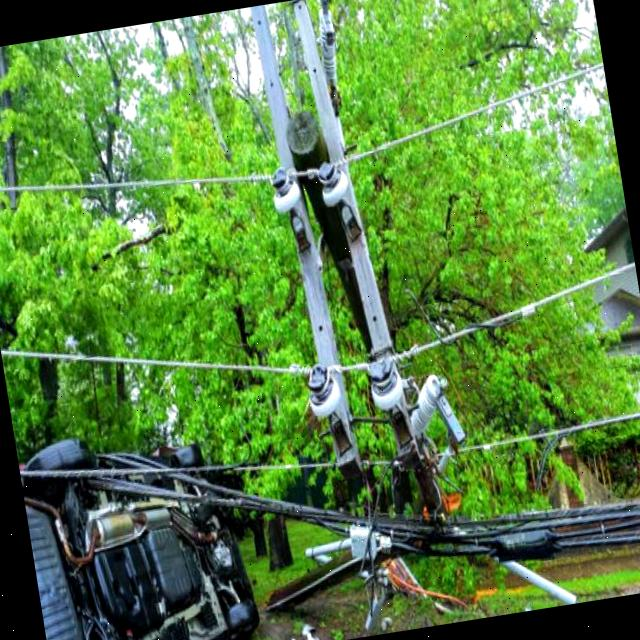Broken Pole: (213, 0, 493, 581)
